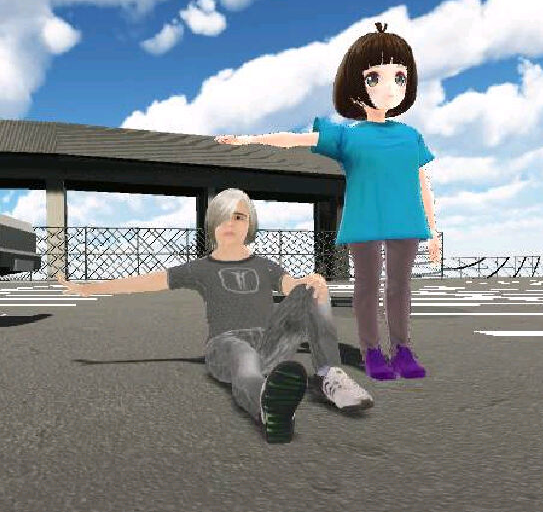doubleP_left: (50, 19, 434, 443)
